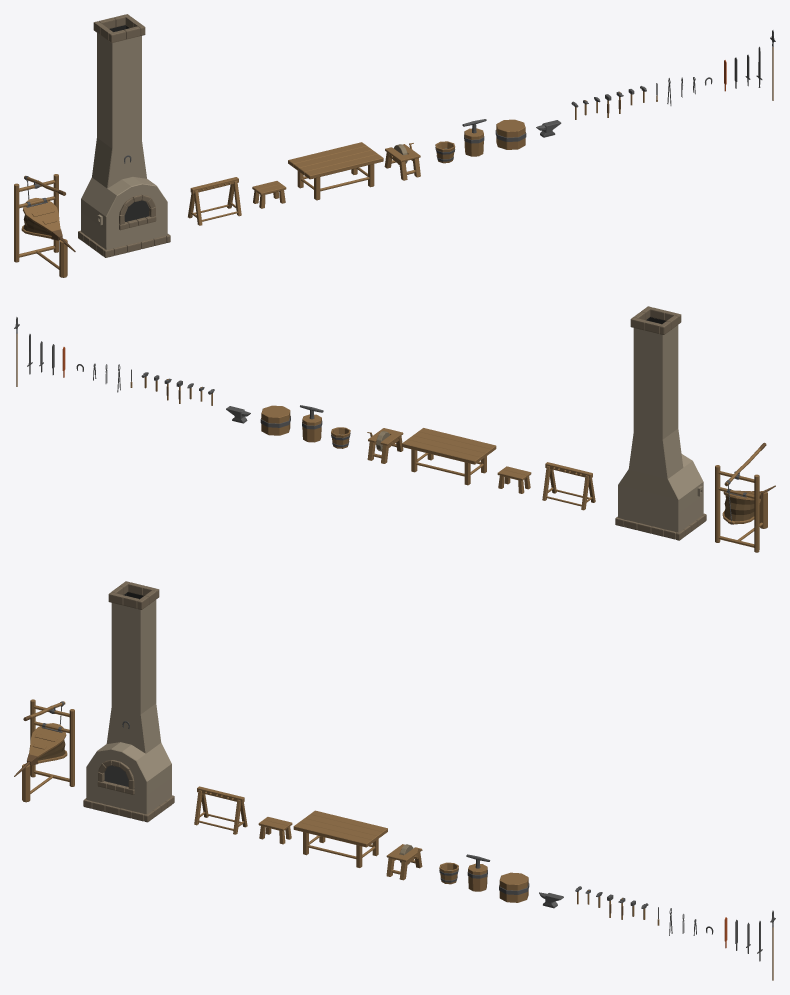
The model's file is medieval-blacksmith-pack-1.fbx.
3 renders of one model, top to bottom at view 1: azimuth 30°, elevation 25°; view 2: azimuth 150°, elevation 25°; view 3: azimuth 330°, elevation 25°, orthographic.
Visible parts, largest first — view 1: Forge, Bellow, Table, SwordsRack, AnvilStand, Grindstone, Anvil2, Chair; view 2: Forge, Bellow, Table, SwordsRack, Grindstone, AnvilStand, Anvil2, Chair; view 3: Forge, Bellow, Table, SwordsRack, AnvilStand, Grindstone.
Part boxes in pixels (left/top/right/bottom): Forge: left=78, top=14, right=170, bottom=257; Bellow: left=14, top=174, right=75, bottom=277; Table: left=288, top=142, right=383, bottom=200; SwordsRack: left=188, top=177, right=241, bottom=225; AnvilStand: left=495, top=119, right=526, bottom=149; Grindstone: left=384, top=143, right=420, bottom=180; Anvil2: left=462, top=119, right=486, bottom=156; Chair: left=252, top=181, right=286, bottom=208; Forge: left=615, top=306, right=706, bottom=540; Bellow: left=715, top=442, right=775, bottom=552; Table: left=402, top=428, right=496, bottom=485; SwordsRack: left=542, top=462, right=595, bottom=510; Grindstone: left=367, top=428, right=403, bottom=463; AnvilStand: left=260, top=405, right=290, bottom=435; Anvil2: left=300, top=405, right=323, bottom=442; Chair: left=497, top=466, right=531, bottom=493; Forge: left=83, top=581, right=174, bottom=822; Bellow: left=14, top=699, right=74, bottom=802; Table: left=293, top=810, right=387, bottom=867; SwordsRack: left=194, top=786, right=247, bottom=834; AnvilStand: left=499, top=872, right=529, bottom=902; Grindstone: left=386, top=844, right=422, bottom=880.
Size of the model in its own units: 2113 by 621 by 242.
